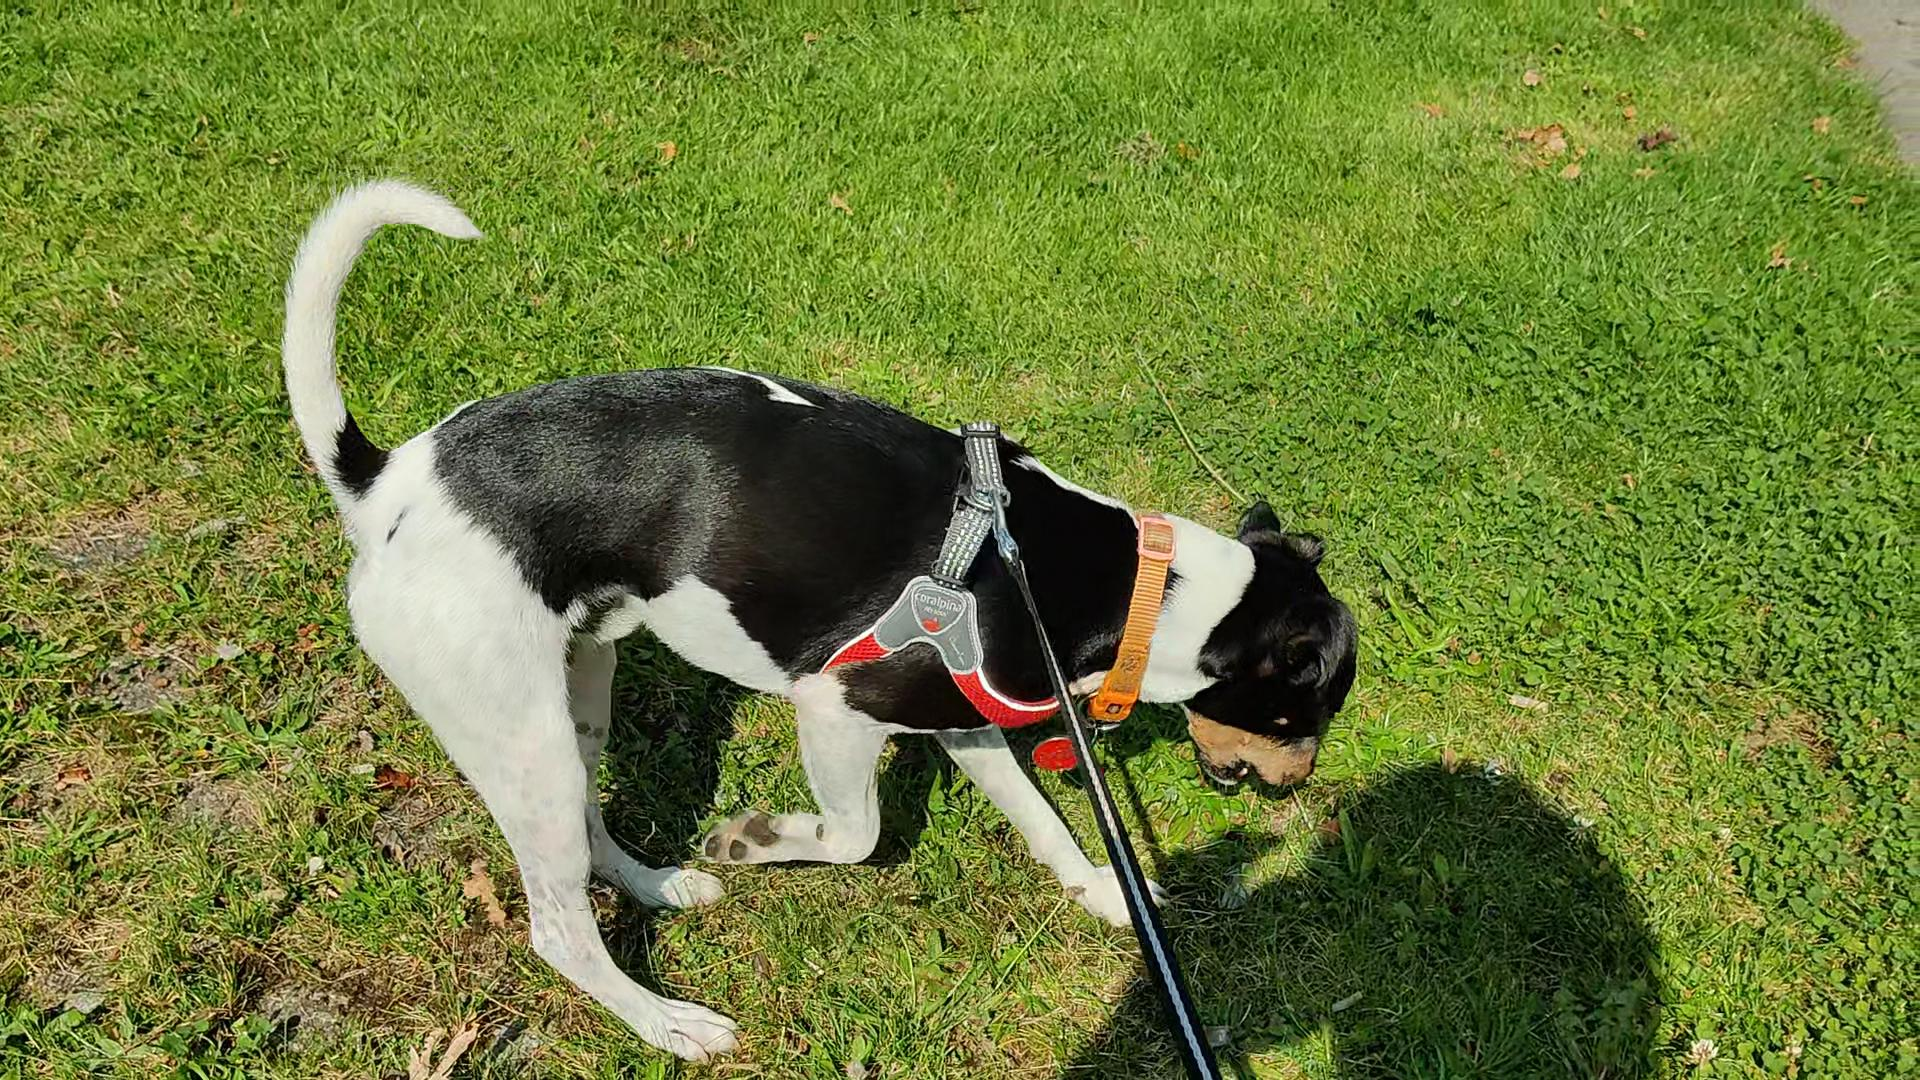Dog: (274, 173, 1357, 1068)
